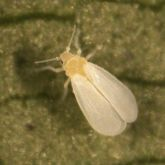Tobacco Whitefly: (37, 22, 144, 140)
